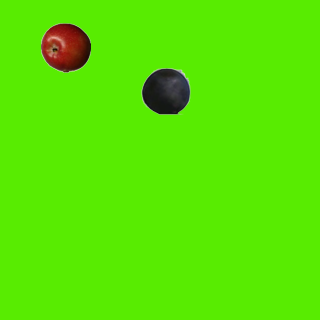Apple Braeburn: (40, 22, 90, 72)
Grape Blue: (140, 65, 190, 115)
